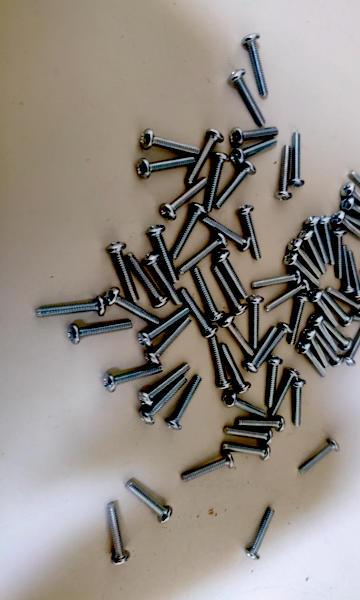longscrew: (123, 251, 172, 308), (228, 68, 267, 127), (140, 361, 191, 405), (107, 242, 142, 306), (139, 378, 188, 423), (148, 224, 185, 283), (161, 174, 209, 219), (146, 253, 184, 306), (125, 481, 174, 522), (244, 511, 284, 561), (187, 130, 224, 183), (215, 163, 261, 205), (194, 268, 229, 323), (182, 282, 217, 337), (147, 320, 191, 363), (139, 307, 190, 344), (68, 313, 133, 342), (181, 448, 233, 484), (165, 379, 202, 429), (242, 32, 269, 100), (241, 327, 277, 377), (180, 232, 226, 271), (105, 291, 160, 322), (135, 150, 195, 178), (220, 343, 252, 395), (173, 205, 205, 256), (258, 324, 293, 369), (204, 216, 250, 250), (104, 363, 163, 389), (214, 253, 248, 298), (214, 270, 248, 315), (269, 371, 301, 418), (31, 301, 107, 320), (287, 240, 325, 278), (108, 495, 127, 568), (299, 441, 340, 474), (266, 279, 308, 310), (240, 205, 262, 263), (232, 138, 279, 165), (206, 153, 227, 213), (308, 218, 332, 270), (244, 296, 265, 355), (298, 230, 324, 277), (210, 335, 230, 391), (142, 133, 200, 152), (314, 327, 341, 367), (287, 297, 308, 348), (230, 124, 278, 146), (288, 254, 321, 286), (223, 319, 254, 353), (299, 343, 327, 380), (250, 271, 305, 289), (292, 133, 309, 190), (278, 147, 295, 204), (313, 316, 339, 353), (265, 359, 283, 412), (306, 329, 330, 368), (326, 293, 354, 326), (313, 291, 336, 329), (220, 445, 274, 460), (333, 214, 360, 244), (222, 401, 271, 417), (327, 288, 360, 311), (332, 231, 348, 278), (320, 219, 336, 265), (342, 247, 357, 294), (327, 321, 352, 348), (221, 429, 277, 441), (345, 326, 360, 369), (293, 382, 305, 432), (235, 419, 287, 430), (342, 182, 360, 212), (342, 209, 360, 238), (350, 253, 360, 300), (344, 198, 360, 227), (352, 174, 360, 203), (351, 316, 360, 329)
